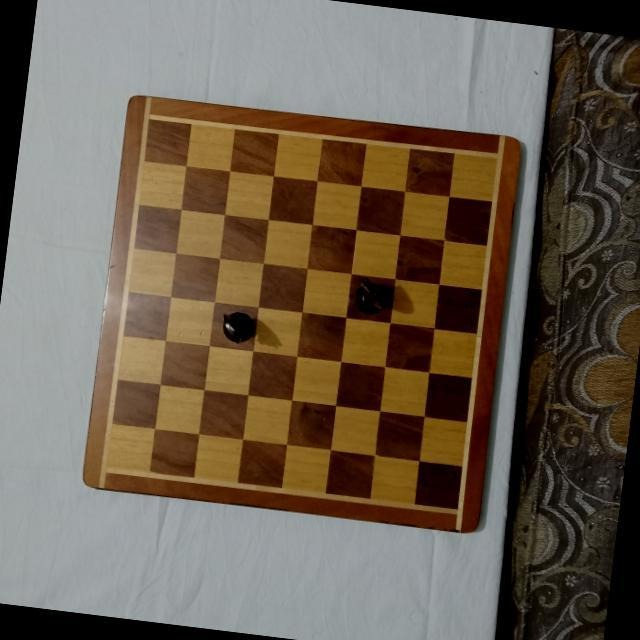black-knight: (351, 276, 389, 318), (218, 307, 258, 346)
